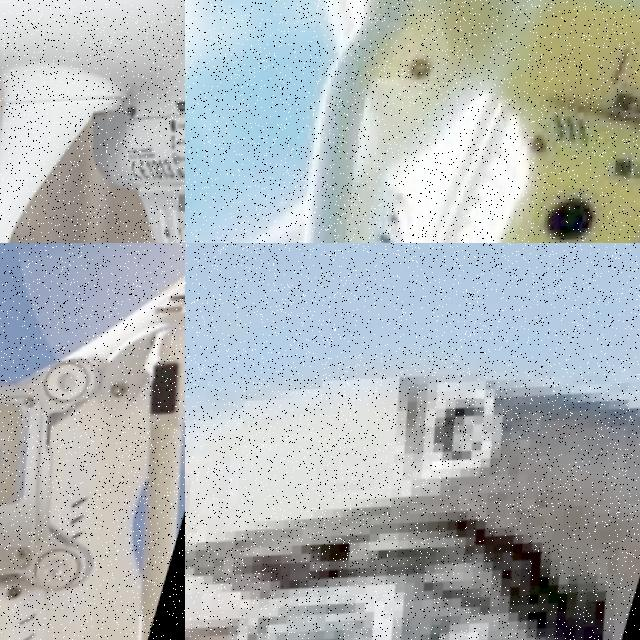0: (0, 0, 185, 243)
drone: (185, 243, 640, 640), (185, 0, 640, 243), (0, 243, 185, 640)
